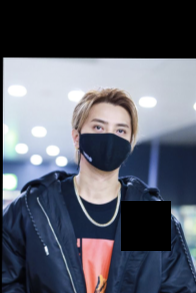with_mask: (77, 115, 131, 173)
